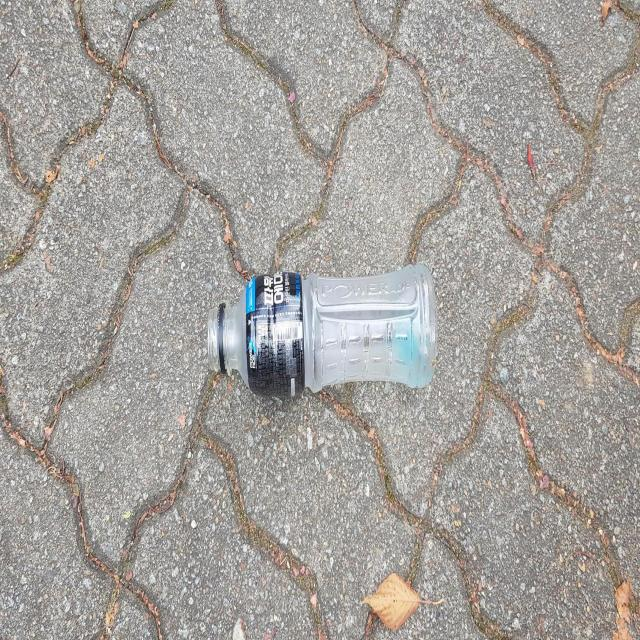plastic: (207, 263, 437, 398)
